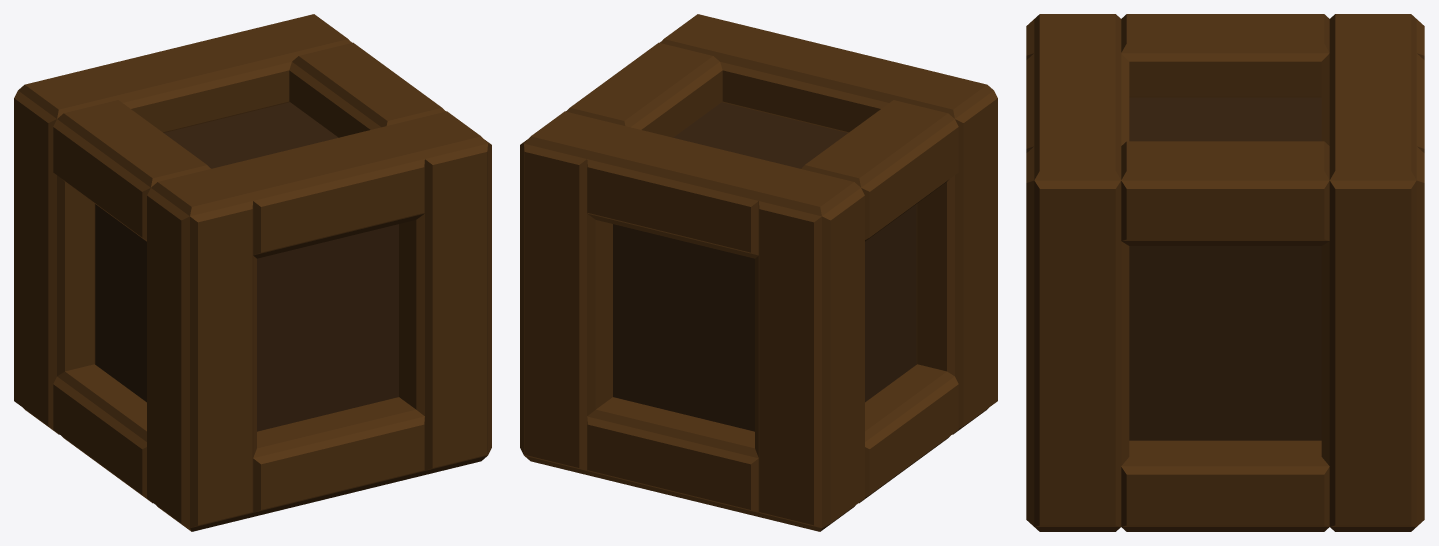
3 renders of one model, left to right at view 1: azimuth 30°, elevation 25°; view 2: azimuth 150°, elevation 25°; view 3: azimuth 270°, elevation 25°, orthographic. The views are drawn at different scales.
Parts seen in each view (by area): view 1: Cube; view 2: Cube; view 3: Cube.
Part boxes in pixels (x1,y1,x2,y2): Cube: (14, 14, 491, 531); Cube: (520, 14, 997, 531); Cube: (1026, 14, 1424, 531).
Bounding box in the file's own units: 2.08 × 2.08 × 2.08.
1 material, 1 textured.
